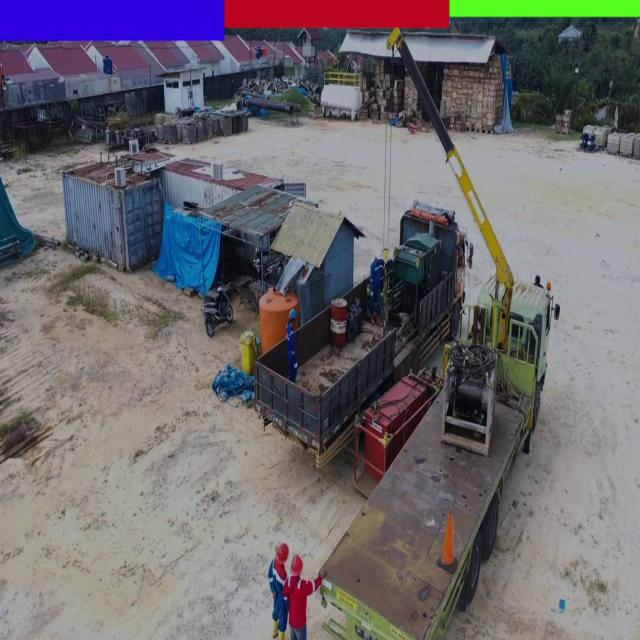Hardhat: (276, 542, 289, 566), (291, 556, 304, 576), (374, 248, 384, 264), (288, 308, 298, 322)
No Glove: (319, 566, 328, 579)
No Overall Suit: (284, 576, 322, 640), (285, 325, 299, 381), (370, 261, 384, 313)
Overall Suit: (270, 561, 288, 630)
Safety Boots: (375, 313, 383, 327), (272, 619, 278, 636), (278, 627, 285, 640), (369, 312, 375, 327)
